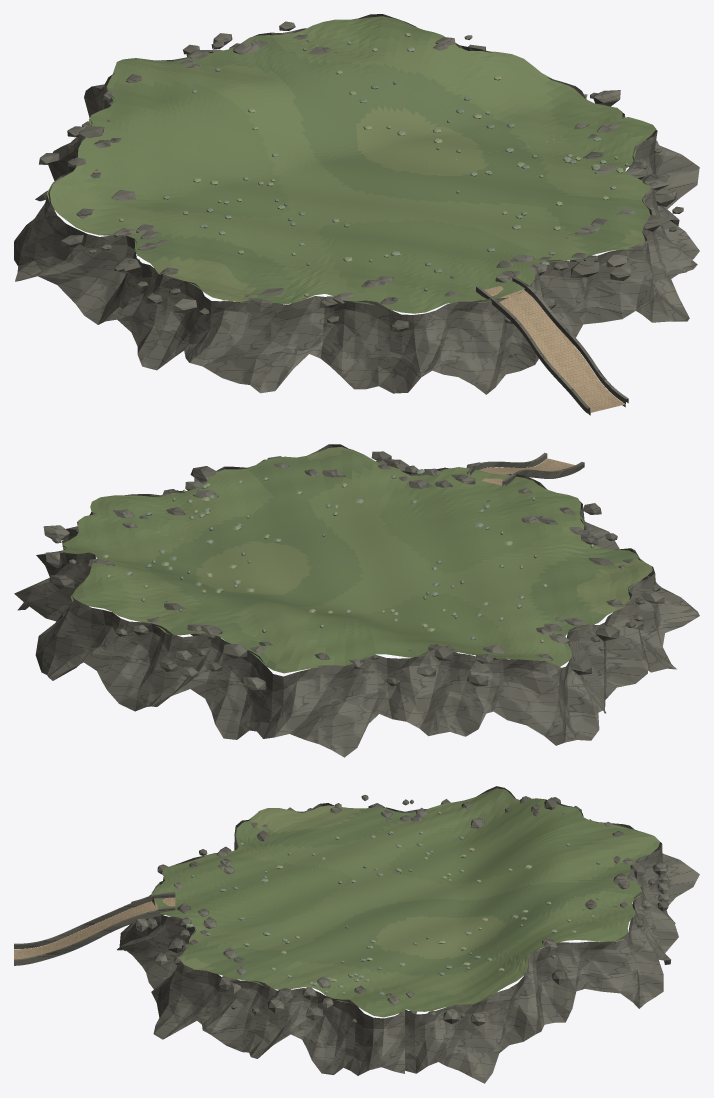
The model's file is valoria_visual_slice_environment_v2.glb.
The picture shows the model from 3 angles, top to bottom: view 1: azimuth 30°, elevation 25°; view 2: azimuth 150°, elevation 25°; view 3: azimuth 270°, elevation 25°; orthographic projection. The views are drawn at different scales.
Visible parts, largest first — view 1: Valoria Highlands - Blender sculpted environment; view 2: Valoria Highlands - Blender sculpted environment; view 3: Valoria Highlands - Blender sculpted environment.
Part boxes in pixels (bbox=[...]): Valoria Highlands - Blender sculpted environment: bbox=[14, 14, 699, 415]; Valoria Highlands - Blender sculpted environment: bbox=[14, 444, 699, 757]; Valoria Highlands - Blender sculpted environment: bbox=[14, 786, 699, 1083].
Bounding box in the file's own units: 95.65 × 17.49 × 111.
13 materials, 6 textured.
